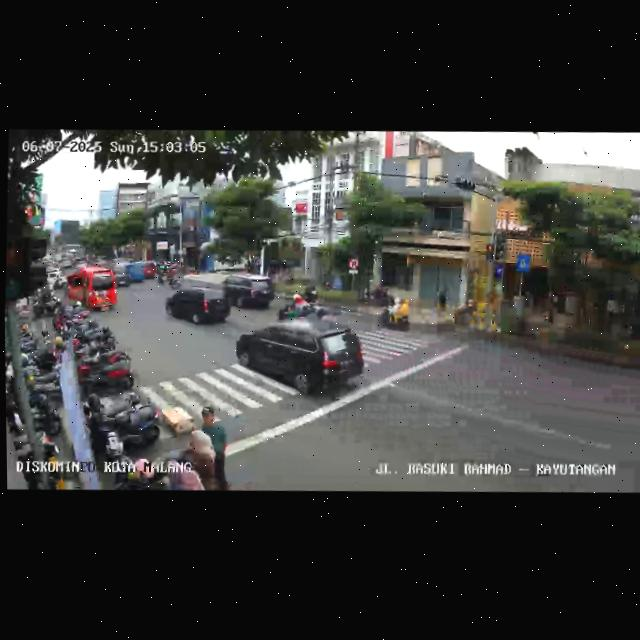car: (235, 316, 369, 402), (164, 279, 234, 331), (63, 263, 118, 316), (224, 273, 274, 312), (123, 261, 146, 284), (137, 260, 156, 282), (114, 260, 129, 287)
motorcycle: (276, 290, 313, 324), (380, 294, 412, 333), (167, 265, 178, 288), (156, 264, 167, 283)
person: (198, 405, 234, 490), (187, 429, 220, 492)
